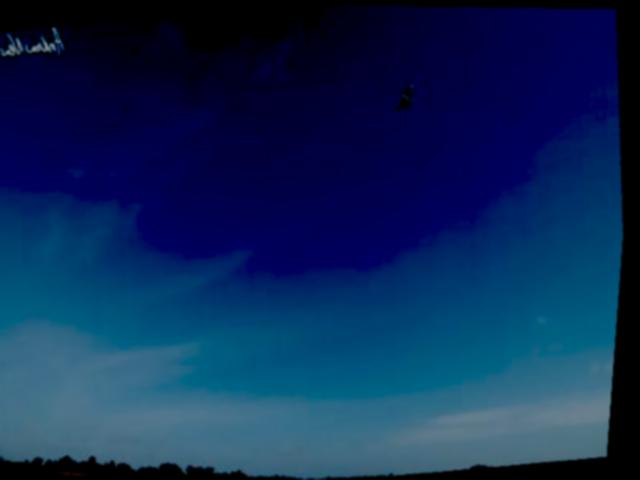uav: (393, 78, 425, 115)
